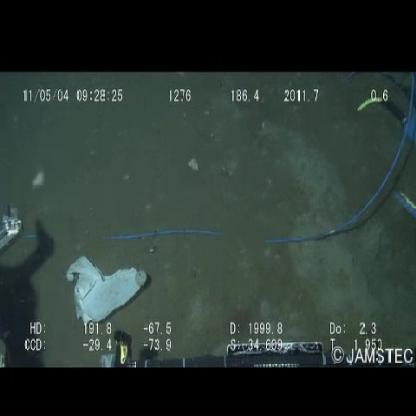Rác: (62, 253, 151, 326)
